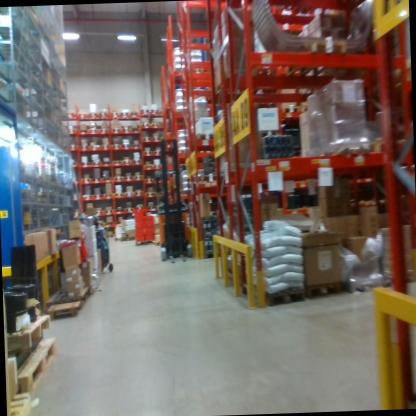forklift: (148, 131, 201, 268)
pallet: (42, 170, 220, 324), (274, 28, 350, 92), (5, 309, 61, 360), (23, 336, 70, 394), (237, 274, 309, 306), (291, 275, 349, 301), (310, 141, 371, 161), (344, 271, 389, 298), (241, 51, 280, 82), (7, 381, 37, 416), (63, 286, 91, 304), (190, 130, 218, 143), (277, 100, 297, 116), (121, 156, 143, 167), (138, 105, 150, 120), (136, 237, 153, 247), (113, 173, 126, 185), (114, 189, 126, 202), (297, 103, 315, 111), (111, 123, 123, 135), (133, 200, 146, 211), (150, 106, 160, 120), (143, 176, 155, 187), (96, 108, 109, 118), (88, 110, 99, 121), (120, 110, 130, 122), (90, 160, 102, 170), (118, 235, 135, 242), (121, 127, 132, 137), (131, 170, 142, 180), (79, 142, 89, 153), (122, 173, 134, 182), (102, 193, 114, 202), (77, 111, 89, 120), (123, 205, 136, 213), (140, 120, 150, 130), (130, 111, 140, 121), (91, 176, 101, 186), (88, 127, 98, 137), (131, 141, 142, 150), (79, 176, 91, 184), (103, 208, 116, 215), (101, 160, 114, 167), (101, 143, 111, 152), (136, 188, 145, 198), (125, 189, 135, 198), (141, 150, 152, 158), (111, 142, 122, 150), (93, 208, 104, 216), (88, 143, 99, 151), (112, 159, 124, 166), (101, 176, 113, 183), (81, 160, 93, 167), (150, 122, 159, 131), (113, 111, 120, 122), (144, 190, 153, 198), (92, 194, 104, 200), (68, 110, 76, 119), (100, 127, 110, 134), (114, 207, 124, 214), (144, 163, 153, 170), (122, 142, 131, 149), (105, 220, 115, 226), (83, 194, 93, 200), (80, 128, 87, 136), (142, 136, 152, 141), (107, 233, 115, 239)
small_load_carrier: (66, 237, 92, 268), (132, 206, 145, 217), (144, 216, 157, 225), (133, 217, 145, 226), (146, 230, 155, 241), (133, 234, 147, 241), (133, 226, 145, 234), (144, 224, 154, 230)
